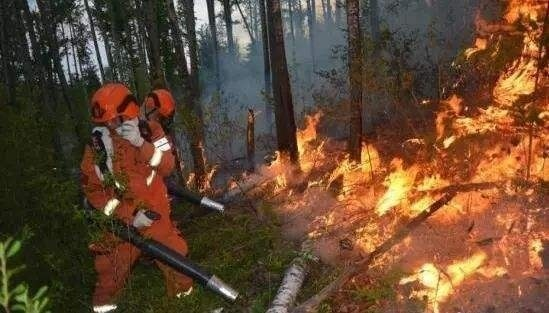fire: (250, 0, 548, 299)
